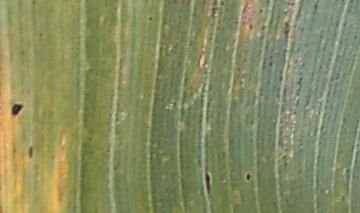tarspot: (203, 164, 213, 196), (10, 101, 23, 119), (279, 27, 292, 43), (25, 144, 34, 160), (244, 172, 252, 182), (260, 22, 267, 33), (145, 14, 153, 23), (37, 31, 46, 39), (247, 22, 254, 31), (282, 21, 291, 28), (257, 7, 264, 15)
